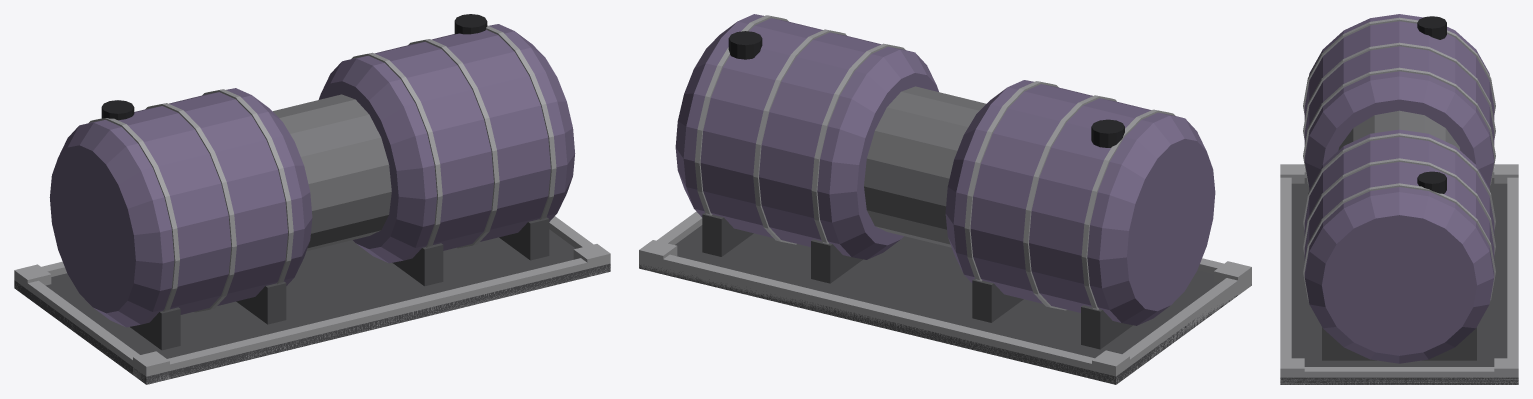
The model's file is vge_giant_astrofuel_tank.obj.
3 renders of one model, left to right at view 1: azimuth 30°, elevation 25°; view 2: azimuth 150°, elevation 25°; view 3: azimuth 270°, elevation 25°, orthographic. The views are drawn at different scales.
Visible parts, largest first — view 1: vge_giant_astrofuel_tank_11, vge_giant_astrofuel_tank_18, vge_giant_astrofuel_tank_0, vge_giant_astrofuel_tank_23, vge_giant_astrofuel_tank_1, vge_giant_astrofuel_tank_3, vge_giant_astrofuel_tank_20, vge_giant_astrofuel_tank_13, vge_giant_astrofuel_tank_14, vge_giant_astrofuel_tank_19, vge_giant_astrofuel_tank_12, vge_giant_astrofuel_tank_16 (+10 smaller); view 2: vge_giant_astrofuel_tank_11, vge_giant_astrofuel_tank_18, vge_giant_astrofuel_tank_0, vge_giant_astrofuel_tank_23, vge_giant_astrofuel_tank_2, vge_giant_astrofuel_tank_3, vge_giant_astrofuel_tank_20, vge_giant_astrofuel_tank_13, vge_giant_astrofuel_tank_14, vge_giant_astrofuel_tank_19, vge_giant_astrofuel_tank_17, vge_giant_astrofuel_tank_10 (+10 smaller); view 3: vge_giant_astrofuel_tank_18, vge_giant_astrofuel_tank_11, vge_giant_astrofuel_tank_0, vge_giant_astrofuel_tank_4, vge_giant_astrofuel_tank_1, vge_giant_astrofuel_tank_2, vge_giant_astrofuel_tank_23, vge_giant_astrofuel_tank_17, vge_giant_astrofuel_tank_14, vge_giant_astrofuel_tank_21, vge_giant_astrofuel_tank_20, vge_giant_astrofuel_tank_13 (+8 smaller).
Boxes of the visible parts, x1,y1,x2,y2 form: vge_giant_astrofuel_tank_11: (49,88,312,327); vge_giant_astrofuel_tank_18: (318,24,575,263); vge_giant_astrofuel_tank_0: (14,229,610,384); vge_giant_astrofuel_tank_23: (273,94,391,251); vge_giant_astrofuel_tank_1: (140,257,610,384); vge_giant_astrofuel_tank_3: (20,278,139,376); vge_giant_astrofuel_tank_20: (408,39,499,248); vge_giant_astrofuel_tank_13: (145,103,236,312); vge_giant_astrofuel_tank_14: (202,89,293,284); vge_giant_astrofuel_tank_19: (351,52,442,247); vge_giant_astrofuel_tank_12: (89,118,179,311); vge_giant_astrofuel_tank_16: (392,243,443,286); vge_giant_astrofuel_tank_11: (945,80,1215,325); vge_giant_astrofuel_tank_18: (675,14,938,259); vge_giant_astrofuel_tank_0: (639,225,1251,384); vge_giant_astrofuel_tank_23: (864,86,986,247); vge_giant_astrofuel_tank_2: (639,253,1122,384); vge_giant_astrofuel_tank_3: (1122,278,1237,378); vge_giant_astrofuel_tank_20: (753,29,846,244); vge_giant_astrofuel_tank_13: (1023,95,1116,310); vge_giant_astrofuel_tank_14: (964,81,1058,281); vge_giant_astrofuel_tank_19: (811,43,905,243); vge_giant_astrofuel_tank_17: (702,213,753,256); vge_giant_astrofuel_tank_10: (972,278,1023,322); vge_giant_astrofuel_tank_18: (1304,129,1494,363); vge_giant_astrofuel_tank_11: (1304,14,1494,188); vge_giant_astrofuel_tank_0: (1280,178,1518,384); vge_giant_astrofuel_tank_4: (1291,367,1507,384); vge_giant_astrofuel_tank_1: (1280,177,1291,384); vge_giant_astrofuel_tank_2: (1507,177,1518,384); vge_giant_astrofuel_tank_23: (1338,110,1460,150); vge_giant_astrofuel_tank_17: (1322,327,1476,360); vge_giant_astrofuel_tank_14: (1303,67,1495,185); vge_giant_astrofuel_tank_21: (1303,183,1495,300); vge_giant_astrofuel_tank_20: (1303,158,1495,254); vge_giant_astrofuel_tank_13: (1303,42,1495,139).
Bounding box in the file's own units: 5.92 × 2.47 × 2.92.
